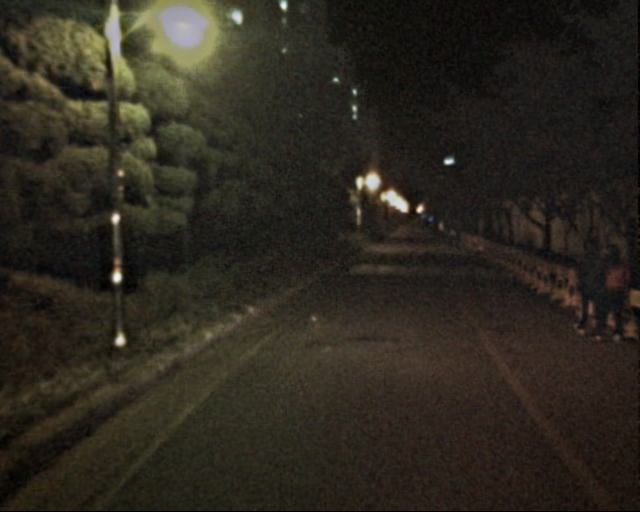person: (569, 235, 613, 345), (597, 242, 634, 341)
